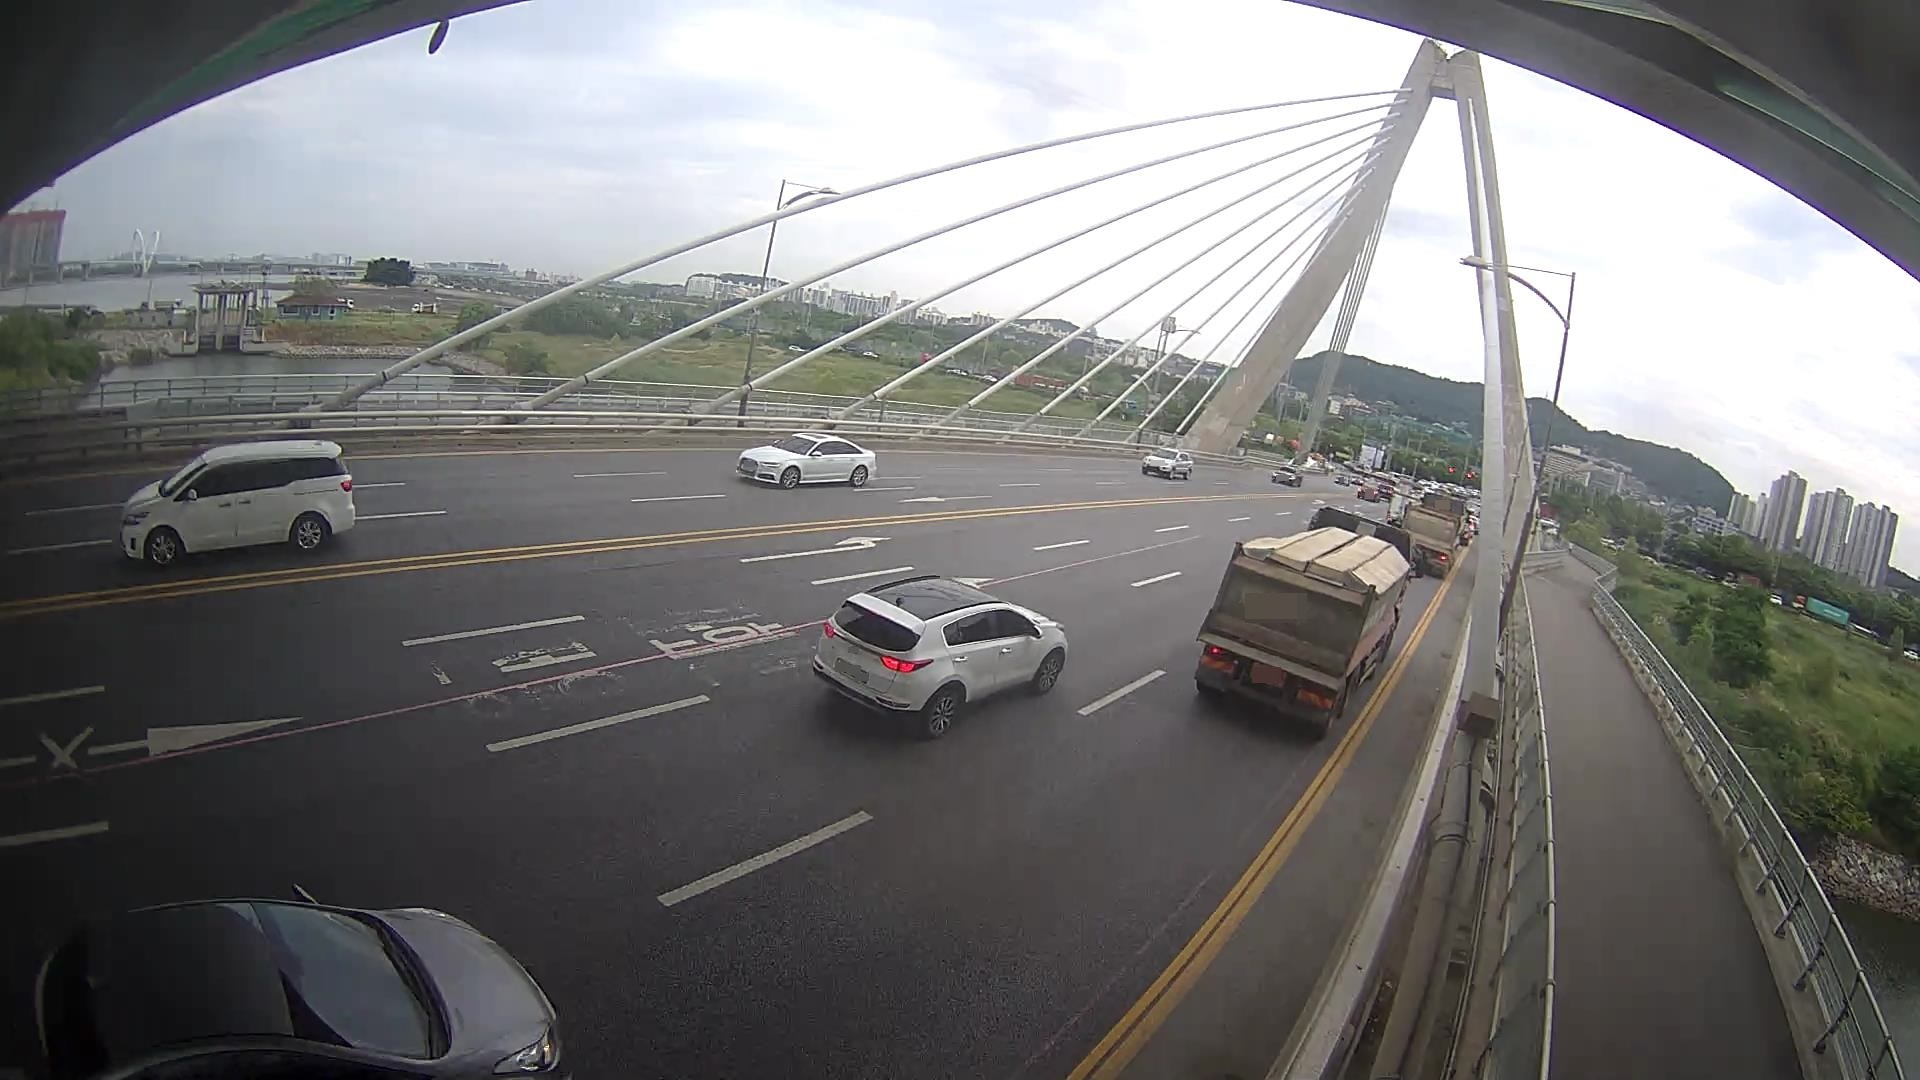정상차량: (1194, 506, 1425, 737)
